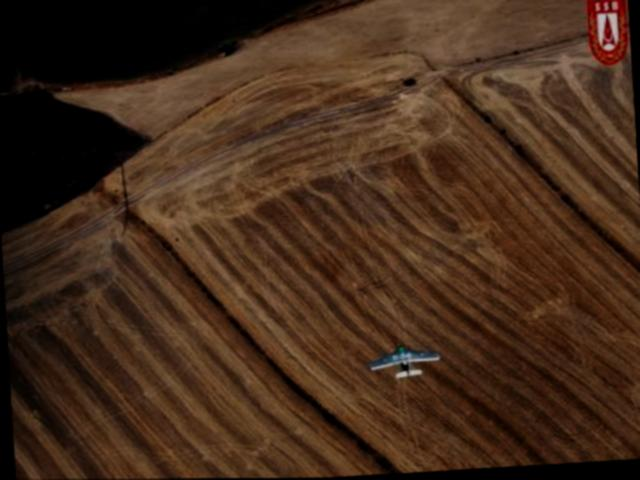uav: (365, 343, 442, 381)
